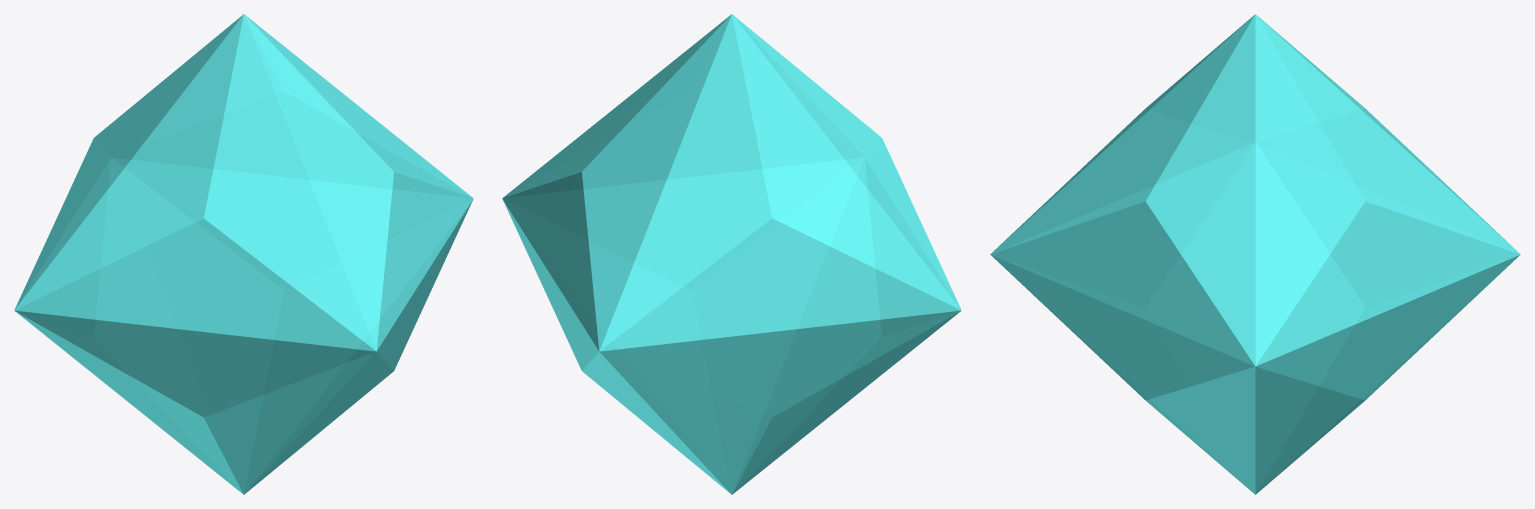
File: TriakisOctahedron.obj
The picture shows the model from 3 angles, left to right: view 1: azimuth 30°, elevation 25°; view 2: azimuth 150°, elevation 25°; view 3: azimuth 270°, elevation 25°; orthographic projection.
Bounding box in the file's own units: 4.83 × 4.83 × 4.83.
